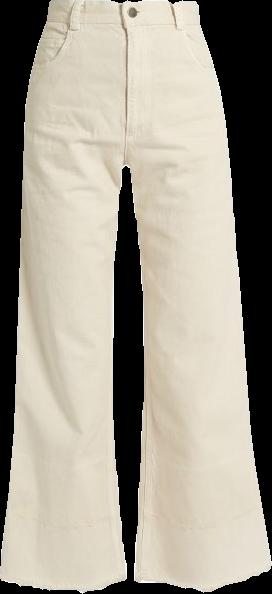Hemline: (133, 565, 271, 593), (0, 574, 125, 593)
Pantleg: (122, 0, 271, 591), (0, 0, 125, 591)
Waistline: (43, 17, 201, 29), (48, 0, 198, 6)
